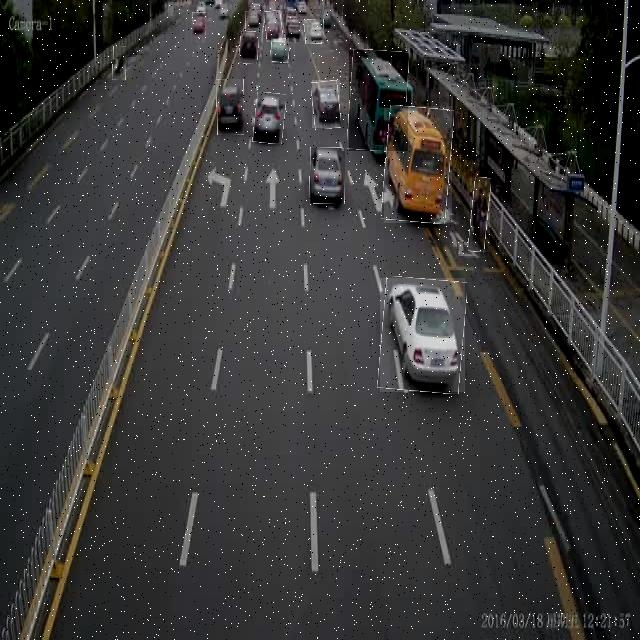Bus: (384, 106, 452, 223), (349, 50, 408, 151)
Car: (380, 278, 465, 392), (310, 148, 345, 204), (254, 92, 285, 144), (217, 79, 244, 135), (312, 80, 340, 128), (239, 32, 259, 64), (266, 11, 282, 42), (305, 20, 324, 44), (271, 38, 289, 63), (192, 12, 206, 35), (286, 22, 300, 42), (245, 11, 260, 29)
Motorcycle: (470, 178, 490, 252), (113, 46, 126, 80)
